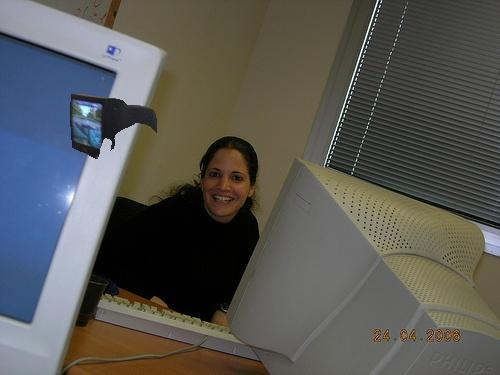tampered: (71, 95, 157, 159)
